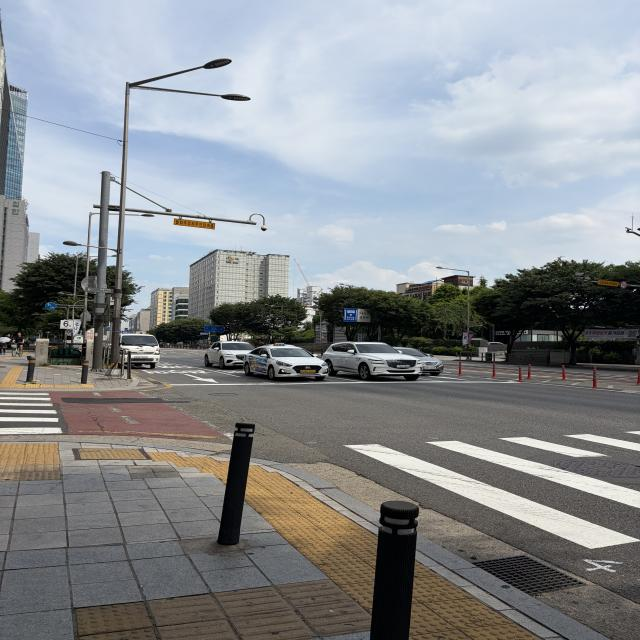car: (314, 334, 427, 389), (234, 337, 332, 388), (108, 326, 165, 372), (196, 334, 261, 370)
